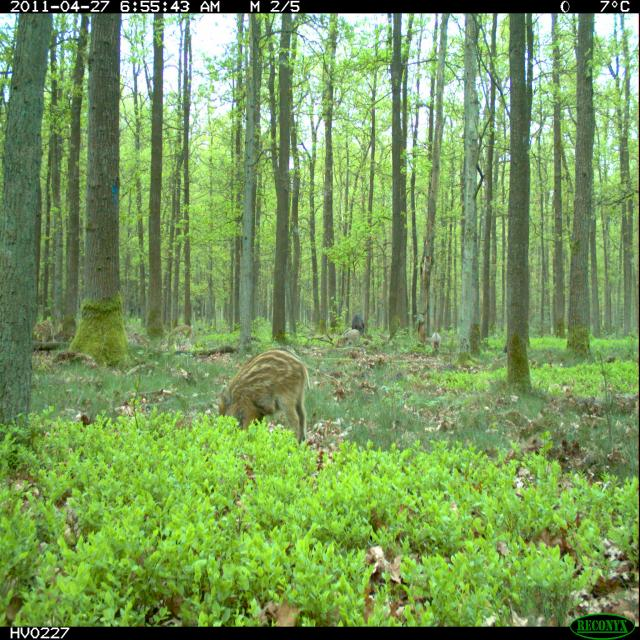boar: (193, 334, 324, 448), (155, 313, 199, 351), (426, 321, 449, 361), (339, 319, 362, 347), (347, 309, 365, 338)
